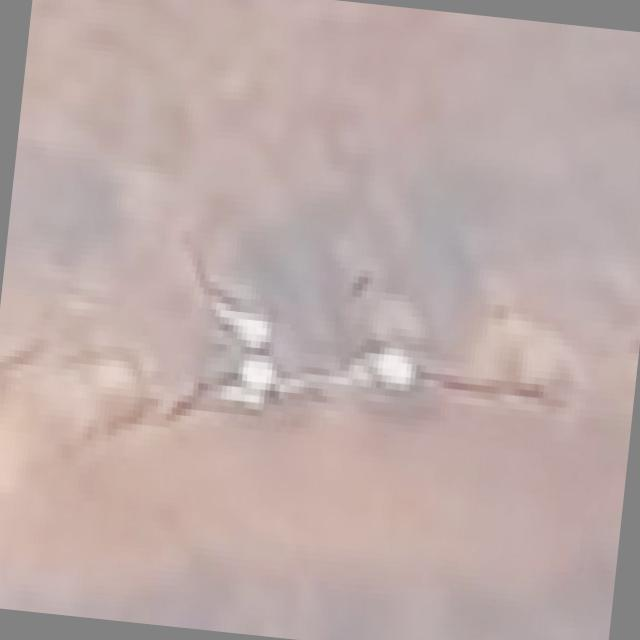crack: (216, 298, 573, 476)
